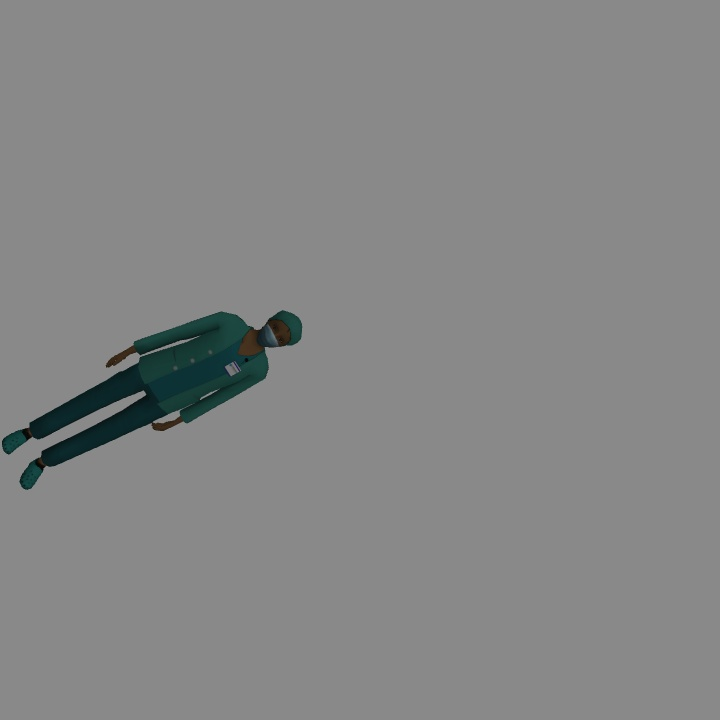victim: (7, 307, 301, 467)
